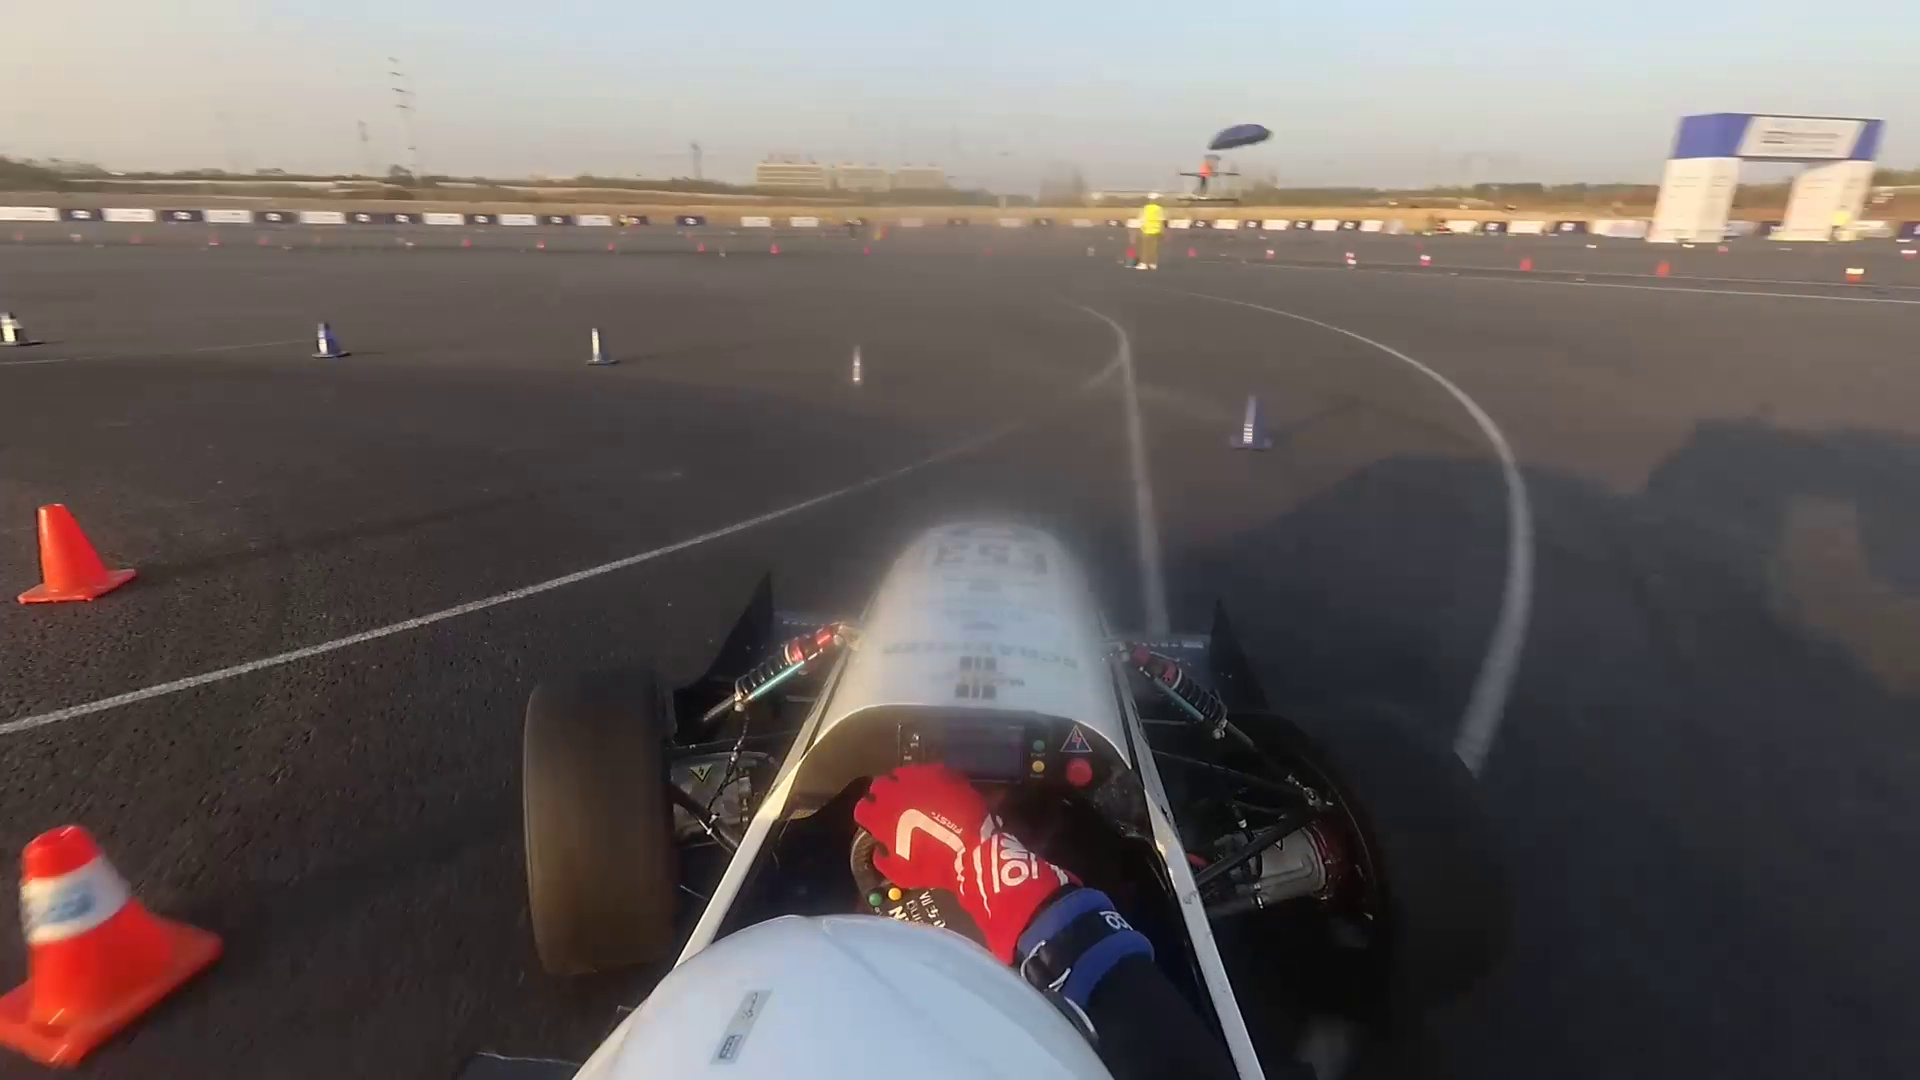blue_cone: (582, 324, 622, 381), (1233, 398, 1269, 447), (844, 339, 873, 392), (309, 324, 344, 364), (5, 305, 32, 357)
red_cone: (12, 832, 185, 1056), (15, 513, 142, 607)
